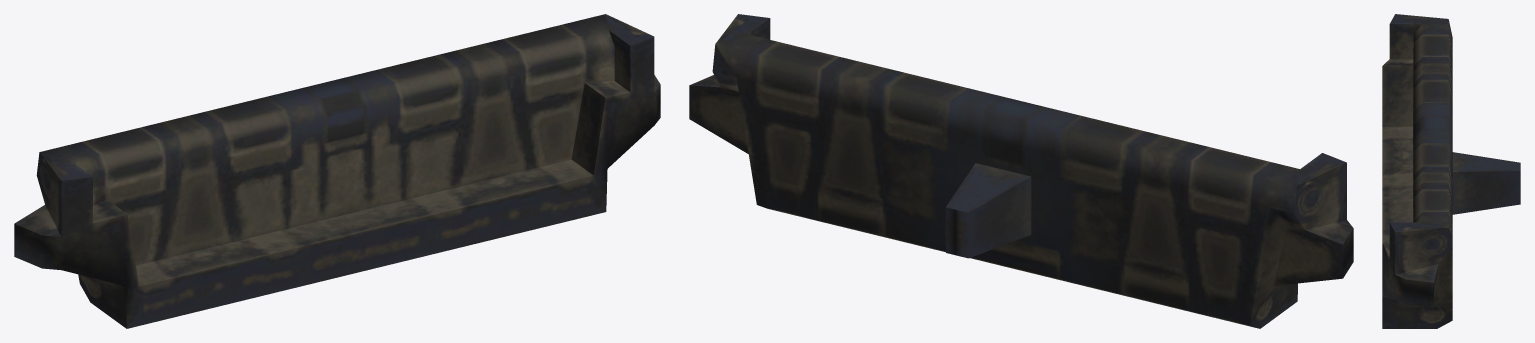
3 renders of one model, left to right at view 1: azimuth 30°, elevation 25°; view 2: azimuth 150°, elevation 25°; view 3: azimuth 270°, elevation 25°, orthographic. The views are drawn at different scales.
Visible parts, largest first — view 1: set_0_group_0; view 2: set_0_group_0; view 3: set_0_group_0.
Part boxes in pixels (box(x1,y1,x2,y2)): set_0_group_0: box(14, 14, 660, 328); set_0_group_0: box(689, 14, 1353, 328); set_0_group_0: box(1382, 14, 1520, 328).
Size of the model in its own units: 0.7819 by 0.1827 by 0.1952.
Materials: 1 (1 with a texture image).
